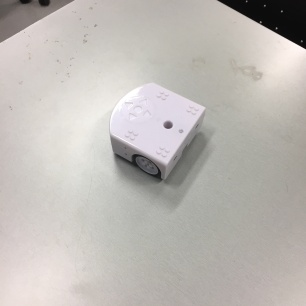thymio: (106, 79, 212, 183)
